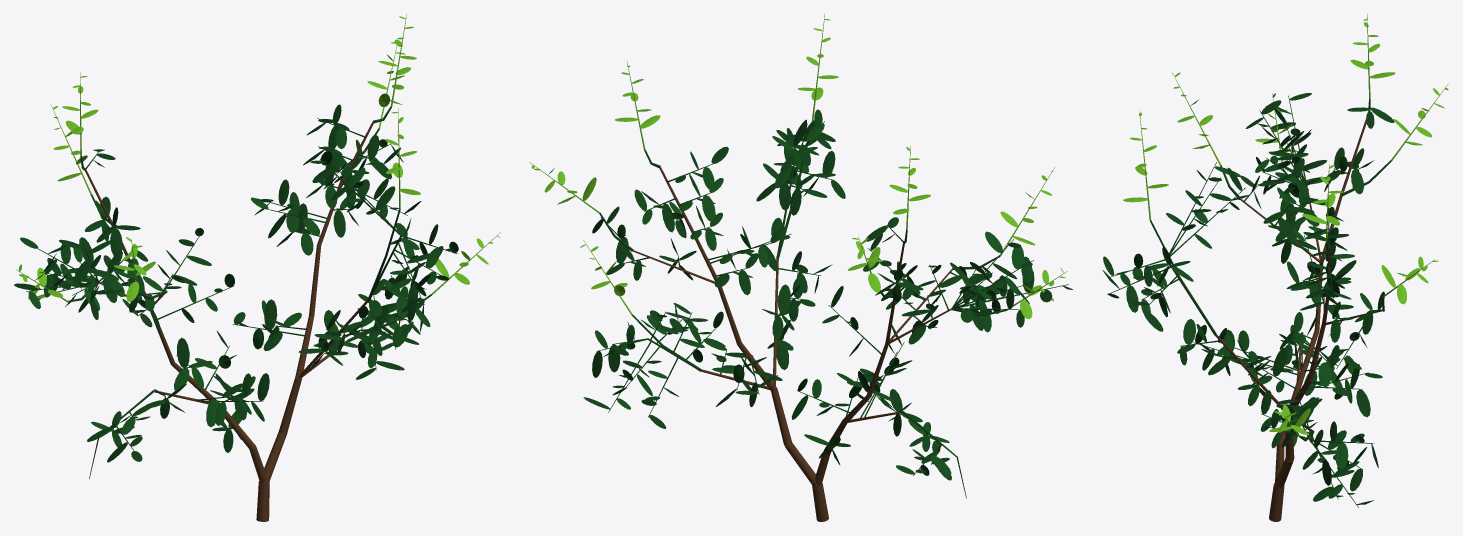
File: tree_visual.dae
3 renders of one model, left to right at view 1: azimuth 30°, elevation 25°; view 2: azimuth 150°, elevation 25°; view 3: azimuth 270°, elevation 25°, orthographic.
Visible parts, largest first — view 1: tree; view 2: tree; view 3: tree.
Boxes of the visible parts, bbox=[...] form: tree: bbox=[14, 14, 500, 521]; tree: bbox=[529, 14, 1072, 521]; tree: bbox=[1102, 14, 1448, 521].
Bounding box in the file's own units: 2.06 × 1.28 × 1.79.
